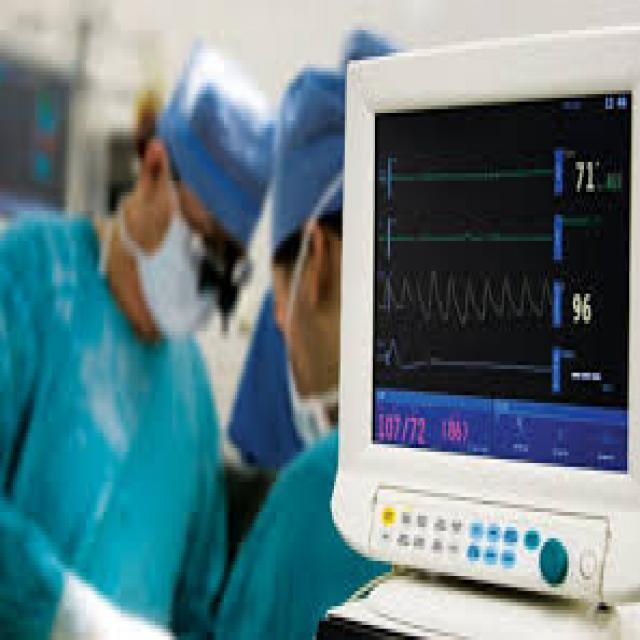cardiac_monitor: (357, 63, 638, 591)
